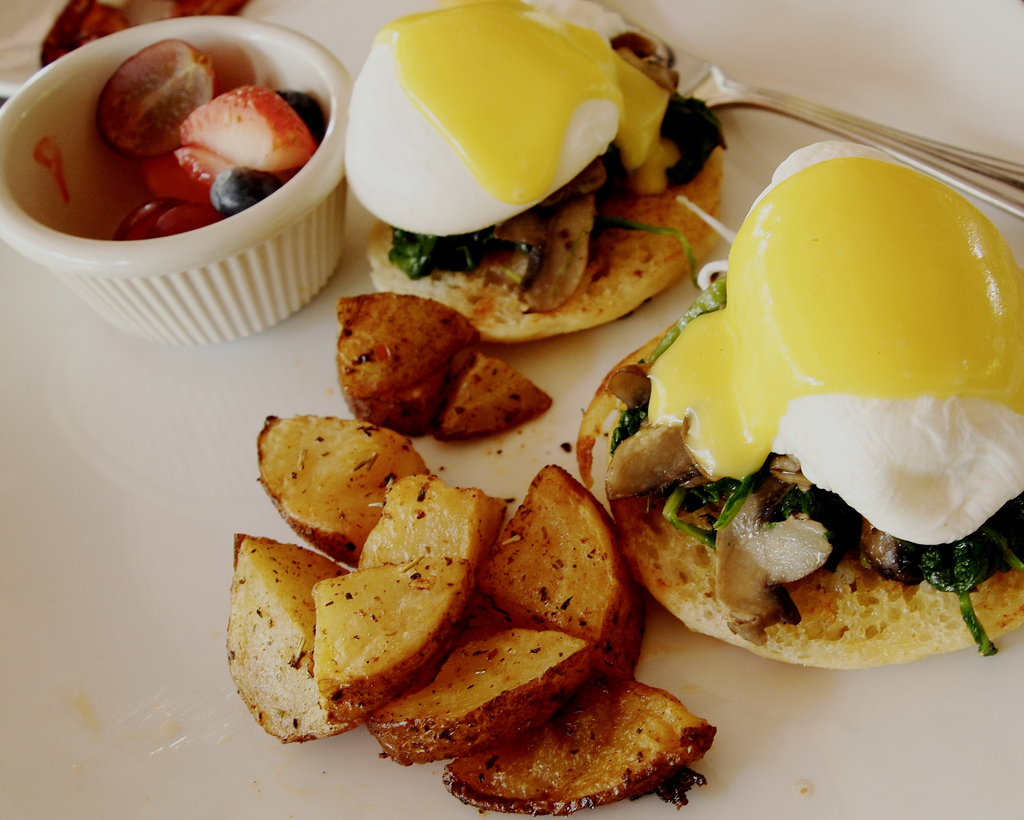boiled potatoes: (247, 426, 682, 795), (327, 296, 548, 454)
slice of bread: (588, 374, 1024, 664), (364, 219, 693, 346)
